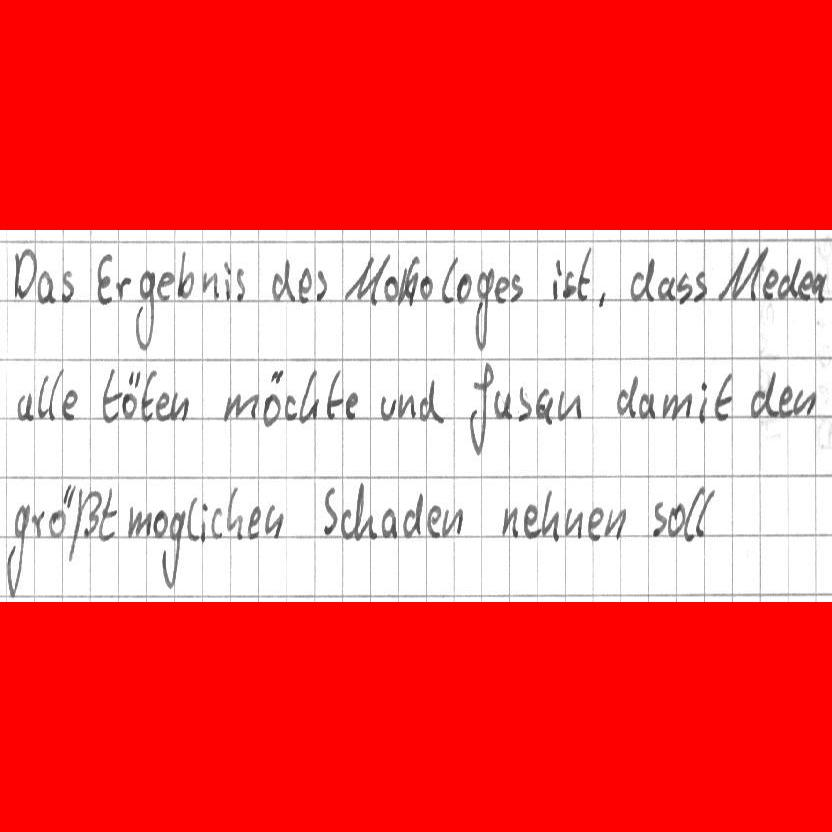Char: (68, 488, 103, 562), (719, 248, 763, 302), (467, 363, 492, 455), (6, 502, 28, 595), (347, 254, 384, 304), (164, 506, 185, 589), (47, 483, 77, 540), (134, 268, 155, 349), (475, 266, 495, 350), (346, 482, 373, 538), (750, 367, 776, 419), (685, 486, 708, 542), (11, 246, 34, 301), (417, 376, 442, 426), (99, 484, 119, 543), (223, 390, 258, 423), (630, 257, 655, 303), (402, 489, 424, 541), (263, 368, 283, 423), (100, 368, 120, 423), (299, 370, 319, 424), (539, 488, 559, 542), (271, 257, 294, 303), (398, 255, 418, 306), (713, 373, 734, 421), (575, 246, 593, 302), (95, 253, 113, 307), (126, 504, 153, 539), (662, 390, 692, 421), (176, 249, 194, 300), (228, 484, 244, 541), (321, 484, 338, 537), (616, 374, 636, 417), (778, 257, 798, 300), (325, 370, 342, 419), (138, 371, 155, 419), (121, 370, 138, 418), (556, 390, 582, 421), (603, 507, 627, 540), (439, 257, 456, 303), (498, 502, 519, 539), (47, 370, 62, 421), (793, 386, 815, 418), (263, 503, 283, 538), (563, 505, 582, 541), (37, 269, 55, 306), (442, 506, 463, 537), (169, 391, 190, 422), (588, 505, 606, 540), (36, 374, 50, 419), (59, 267, 76, 304), (761, 267, 779, 301), (155, 270, 174, 301), (393, 392, 414, 420), (516, 386, 532, 422), (667, 502, 683, 538), (17, 392, 36, 422), (187, 496, 199, 543), (62, 389, 79, 422), (28, 505, 45, 538), (523, 502, 539, 537), (381, 504, 397, 539), (312, 267, 328, 302), (538, 390, 554, 425), (495, 389, 513, 420), (201, 270, 220, 299), (378, 394, 397, 423), (692, 269, 708, 303), (652, 501, 667, 537), (638, 392, 657, 420), (797, 268, 813, 301), (211, 507, 227, 539), (811, 271, 828, 301), (697, 378, 708, 424), (777, 385, 793, 416), (153, 508, 169, 539), (427, 504, 442, 537), (298, 267, 312, 302), (155, 392, 171, 422), (561, 267, 575, 301), (456, 271, 471, 302), (509, 273, 524, 304), (344, 391, 360, 420), (248, 504, 261, 539), (234, 267, 247, 301), (115, 276, 132, 301), (384, 275, 399, 303), (199, 502, 209, 544), (659, 277, 676, 301), (418, 275, 433, 302), (495, 275, 510, 302), (677, 272, 690, 303), (283, 393, 296, 423), (223, 262, 233, 299), (552, 259, 561, 300), (596, 285, 610, 311)
